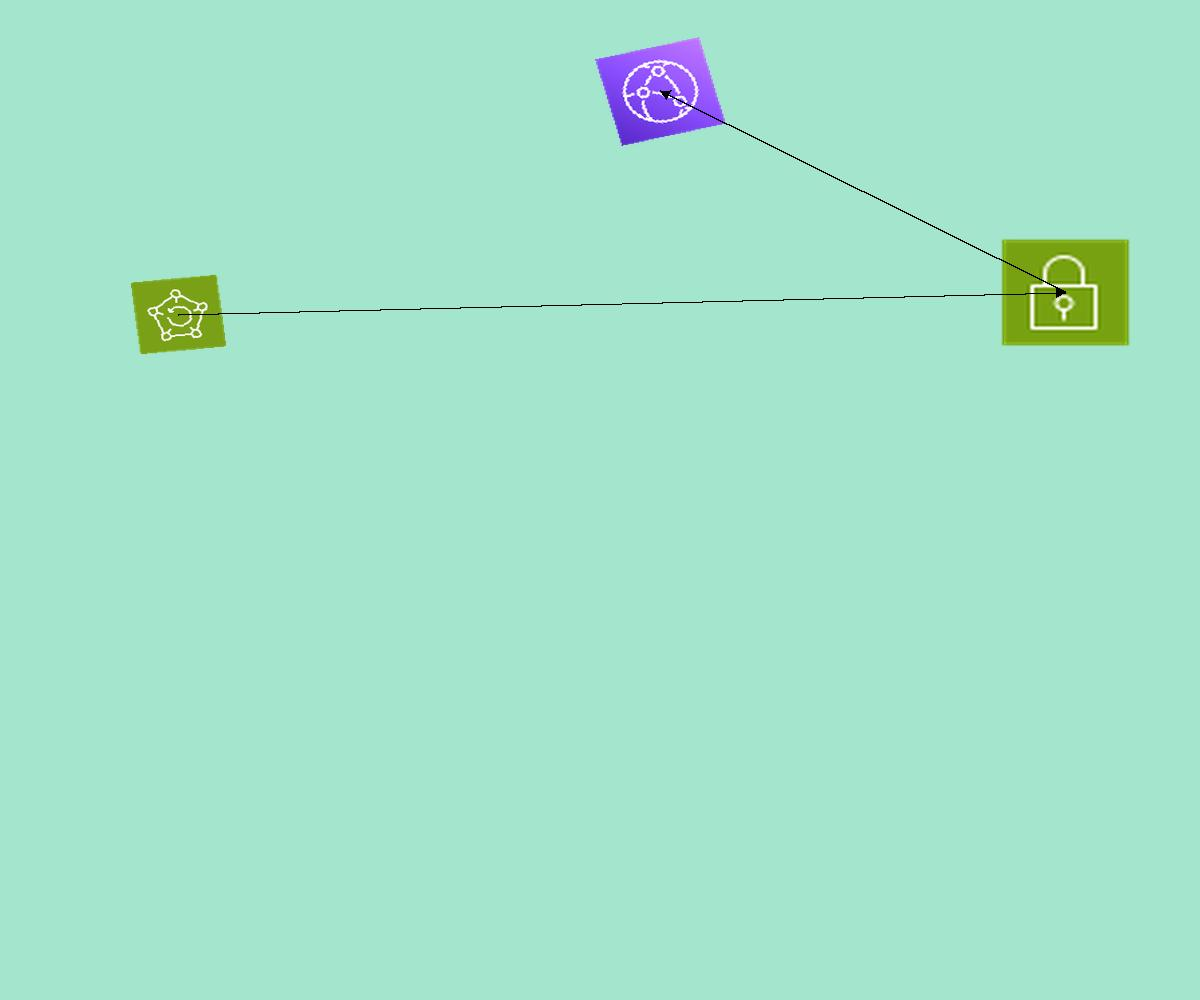AWS-Backup: (130, 274, 227, 355)
AWS-CloudFront: (595, 37, 726, 146)
AWS-Public-subnet: (999, 237, 1132, 348)
